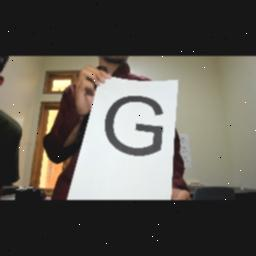g: (99, 92, 167, 158)
